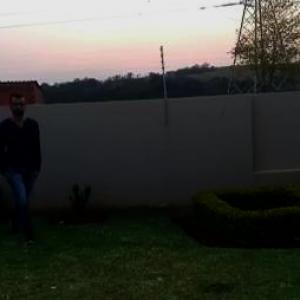follow: (2, 97, 54, 225)
